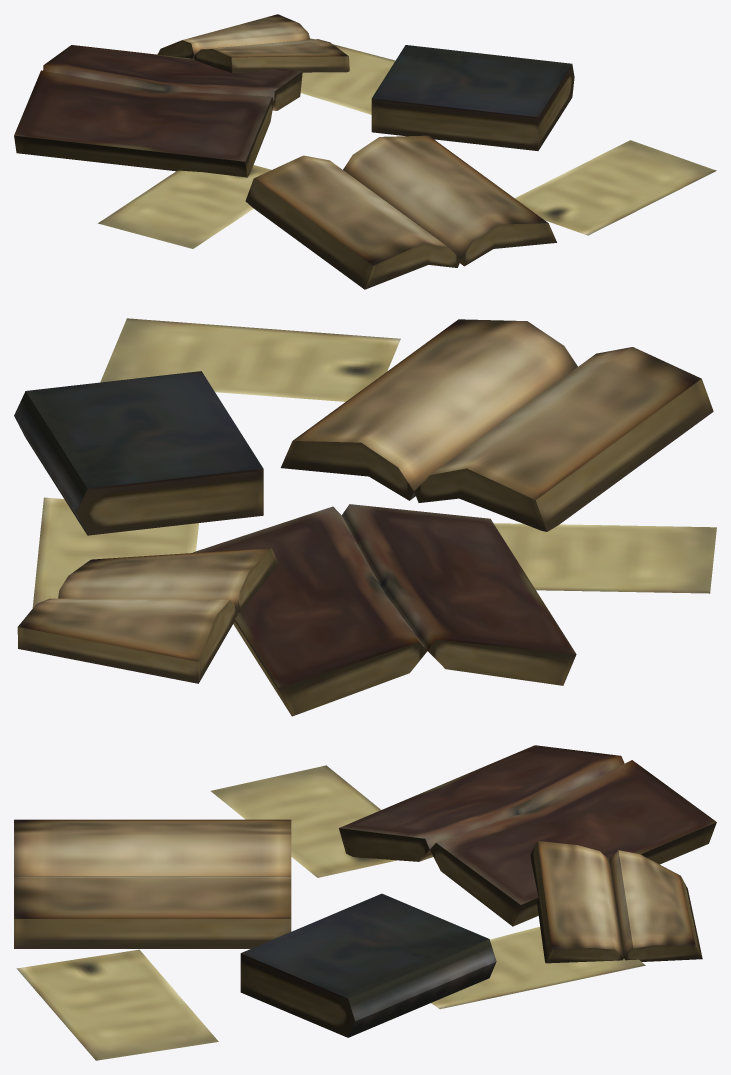
Rendered from DN_1_4_shujia03.FBX.
The picture shows the model from 3 angles, top to bottom: view 1: azimuth 30°, elevation 25°; view 2: azimuth 150°, elevation 25°; view 3: azimuth 270°, elevation 25°; orthographic projection. The views are drawn at different scales.
Parts seen in each view (by area): view 1: DN_1_4_shujia03; view 2: DN_1_4_shujia03; view 3: DN_1_4_shujia03.
Boxes of the visible parts, x1,y1,x2,y2 form: DN_1_4_shujia03: (14, 14, 716, 289); DN_1_4_shujia03: (14, 318, 716, 716); DN_1_4_shujia03: (14, 745, 716, 1060).
Size of the model in its own units: 54.38 by 5.16 by 54.98.
